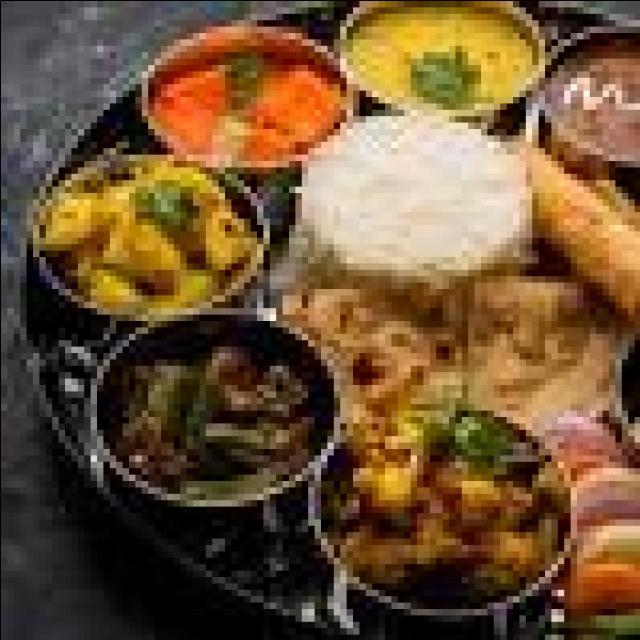dal: (335, 0, 547, 138)
papad: (37, 143, 270, 332)
rice: (294, 105, 539, 297)
sambar-rasam: (143, 28, 340, 174)
sweet: (136, 26, 349, 175)
